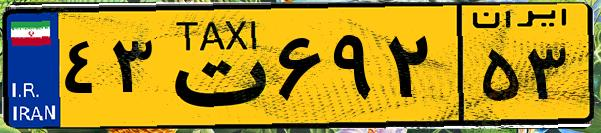2: (385, 28, 445, 110)
3: (525, 38, 570, 115), (110, 28, 158, 98)
4: (57, 26, 110, 100)
5: (475, 38, 525, 113)
6: (270, 28, 330, 110)
9: (330, 28, 385, 110)
ت: (158, 12, 270, 120)
